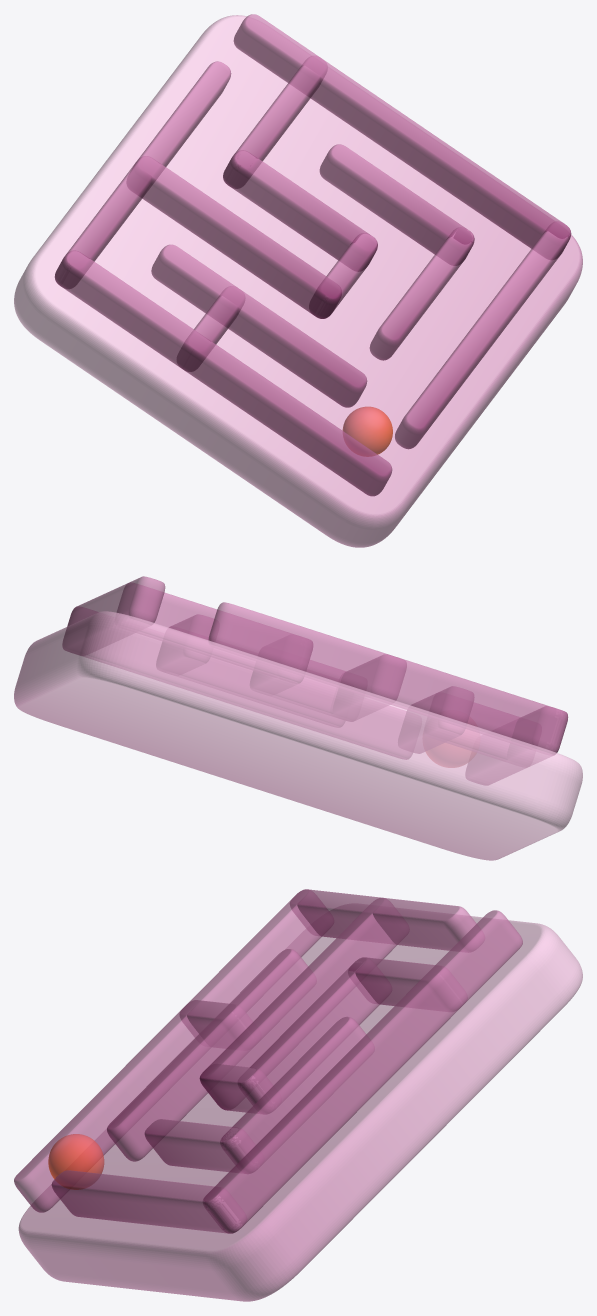
The model's file is maze.glb.
3 renders of one model, top to bottom at view 1: azimuth 30°, elevation 25°; view 2: azimuth 150°, elevation 25°; view 3: azimuth 270°, elevation 25°, orthographic. The views are drawn at different scales.
Visible parts, largest first — view 1: board, wall_3, wall_4, wall_5, wall_8, wall_1, wall_2, wall_7, wall_10, wall_6, wall_11, wall_9 (+2 smaller); view 2: board, wall_2, wall_11, wall_1, wall_4, wall_3, wall_5, wall_8, wall_6, wall_12, wall_9, wall_7 (+2 smaller); view 3: board, wall_4, wall_3, wall_5, wall_8, wall_10, wall_7, wall_1, wall_2, wall_11, wall_6, wall_9 (+2 smaller).
Part boxes in pixels (x1,y1,x2,y2): board: (14, 15, 582, 547); wall_3: (55, 251, 392, 496); wall_4: (233, 14, 571, 259); wall_5: (151, 244, 367, 407); wall_8: (127, 156, 341, 318); wall_1: (395, 222, 570, 449); wall_2: (54, 61, 231, 288); wall_7: (319, 144, 474, 265); wall_10: (223, 150, 377, 271); wall_6: (369, 227, 474, 360); wall_11: (223, 56, 327, 188); wall_9: (309, 233, 377, 318); board: (14, 611, 582, 860); wall_2: (208, 602, 567, 753); wall_11: (116, 583, 312, 683); wall_1: (67, 607, 412, 759); wall_4: (63, 576, 165, 655); wall_3: (466, 706, 568, 784); wall_5: (398, 686, 473, 753); wall_8: (333, 655, 406, 721); wall_6: (165, 657, 344, 727); wall_12: (445, 703, 519, 761); wall_9: (251, 660, 345, 715); wall_7: (156, 615, 213, 674); board: (18, 904, 582, 1301); wall_4: (203, 910, 522, 1233); wall_3: (14, 889, 333, 1212); wall_5: (107, 949, 316, 1161); wall_8: (199, 898, 409, 1110); wall_10: (238, 957, 391, 1113); wall_7: (220, 1016, 374, 1173); wall_1: (51, 1170, 246, 1233); wall_2: (290, 889, 484, 952); wall_11: (348, 957, 467, 1011); wall_6: (144, 1119, 259, 1173); wall_9: (200, 1064, 276, 1113).
Size of the model in its own units: 1.36 by 0.9312 by 1.18.
